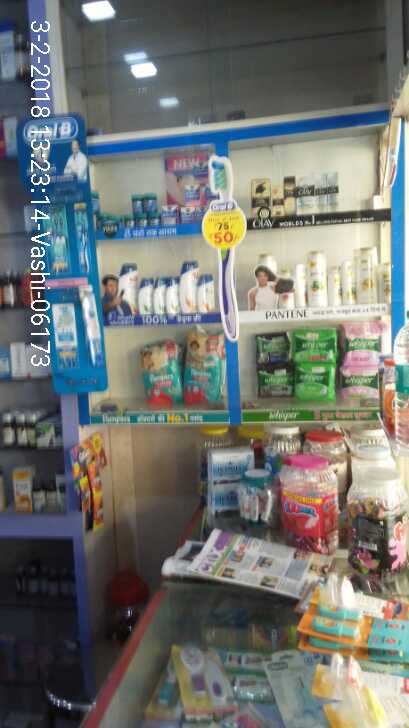beauty: (289, 172, 334, 208), (114, 258, 142, 311), (356, 244, 380, 305), (246, 178, 273, 219), (178, 254, 198, 309), (309, 254, 326, 305), (340, 261, 358, 306), (323, 266, 340, 300), (273, 185, 285, 220), (164, 273, 175, 311), (140, 276, 153, 306), (152, 280, 164, 312), (200, 278, 212, 303)
pharmacy: (178, 329, 224, 412), (130, 344, 183, 404), (250, 329, 293, 401), (342, 323, 389, 362), (293, 320, 338, 360), (339, 361, 384, 399), (296, 360, 333, 400)
